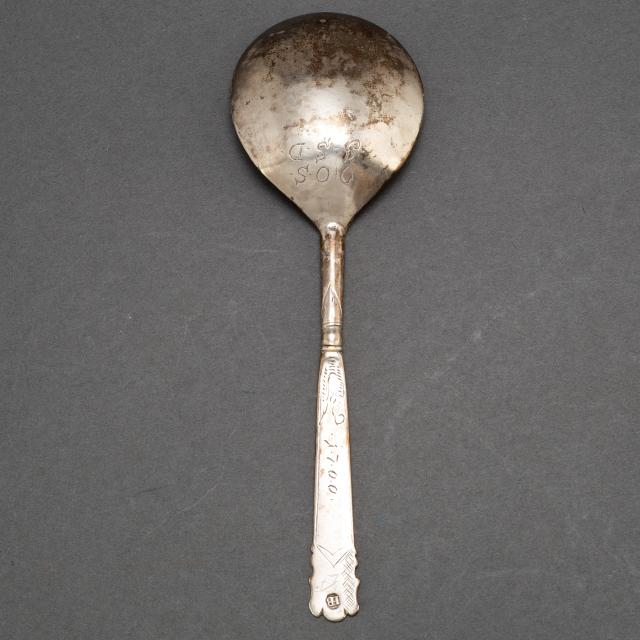spoon: (214, 0, 442, 640)
